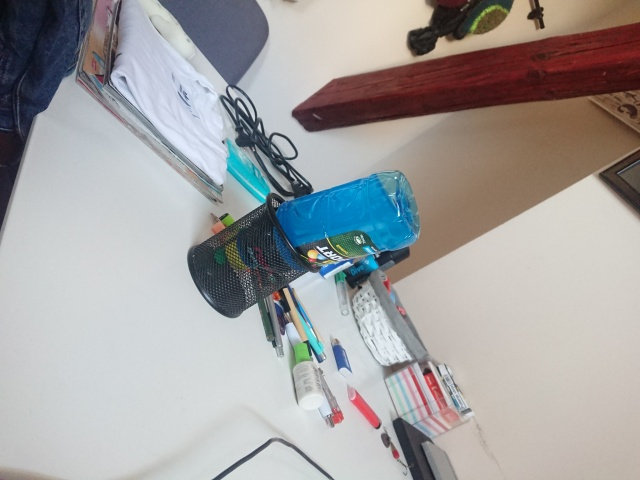Vindi Iso Sport Forest Strawberries 500mL: (211, 168, 422, 270)
